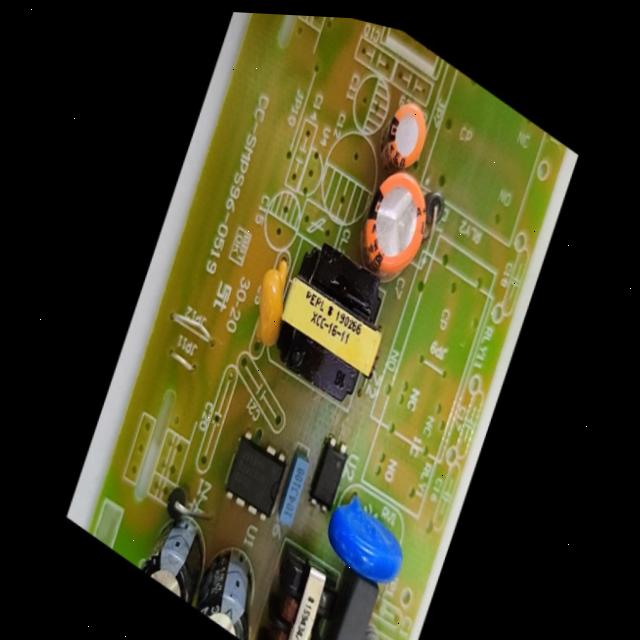Cap1: (340, 146, 448, 304)
Cap2: (367, 84, 441, 186)
Cap3: (186, 533, 282, 640)
Cap4: (130, 489, 225, 611)
MOSFET: (213, 418, 297, 536)
Mov: (309, 483, 420, 606)
Resistor: (350, 615, 402, 640)
Transformer: (256, 225, 408, 432), (255, 536, 348, 640)
